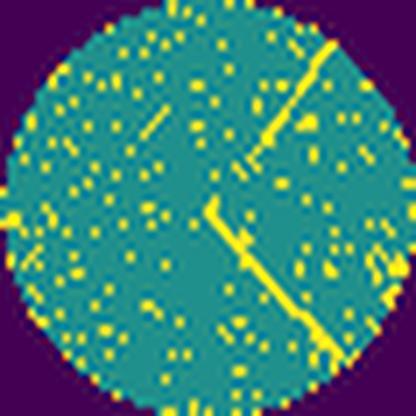Scratch: (201, 190, 347, 371), (248, 40, 341, 168)
